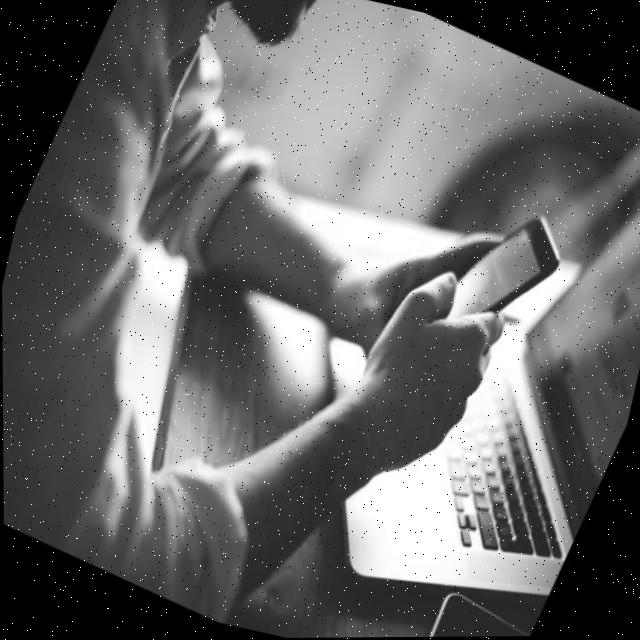phone: (431, 185, 579, 362)
